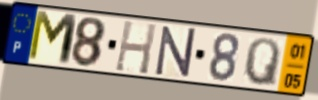8: (69, 15, 108, 69), (207, 31, 242, 84)
H: (113, 18, 159, 77)
M: (25, 8, 80, 68)
N: (154, 25, 197, 79)
Q: (242, 36, 282, 90)
